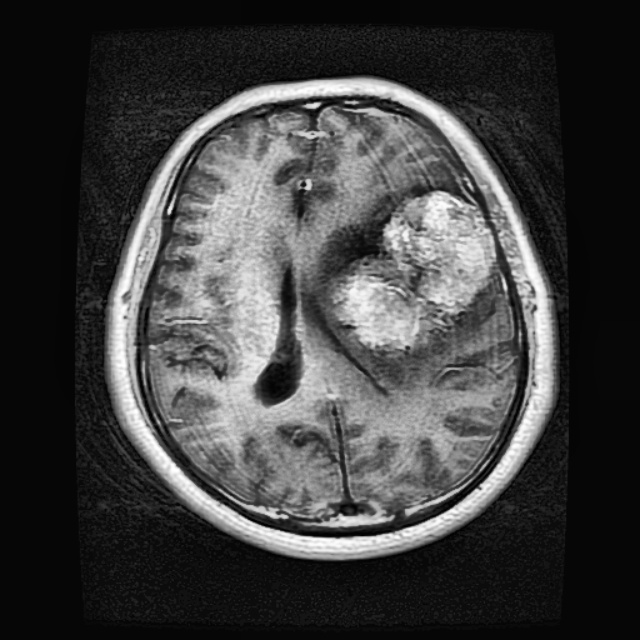Pituitary: (330, 189, 495, 350)
